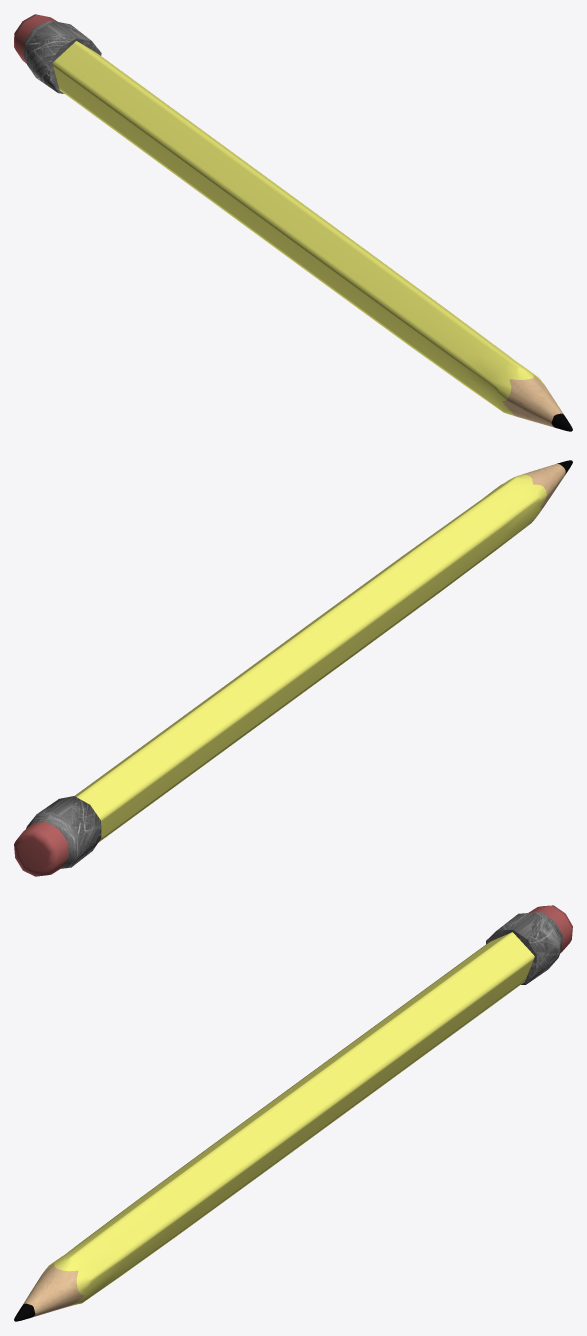
The model's file is Pencil.FBX.
3 renders of one model, top to bottom at view 1: azimuth 30°, elevation 25°; view 2: azimuth 150°, elevation 25°; view 3: azimuth 330°, elevation 25°, orthographic.
Visible parts, largest first — view 1: pencil; view 2: pencil; view 3: pencil.
Part boxes in pixels (x1=…): pencil: x1=14, y1=14, x2=572, y2=431; pencil: x1=14, y1=460, x2=572, y2=876; pencil: x1=14, y1=905, x2=572, y2=1321.
Size of the model in its own units: 0.9486 by 0.9807 by 16.6.
1 material, 1 textured.
